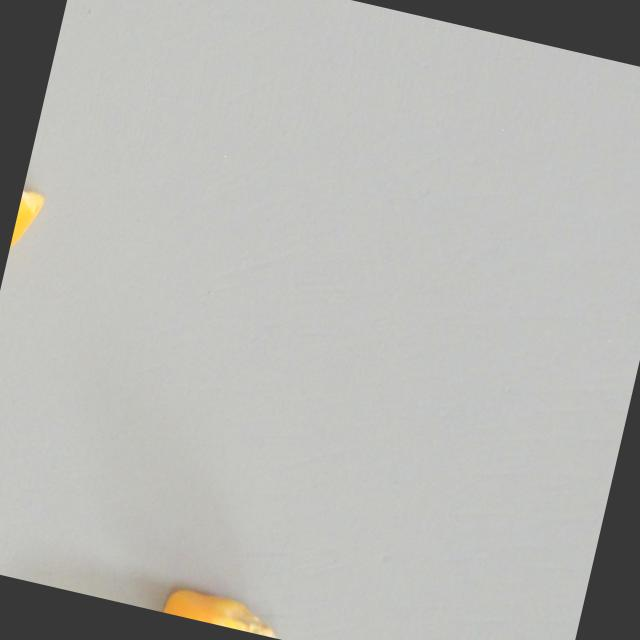entero: (156, 573, 296, 640)
no_canjicado: (2, 123, 63, 280)
